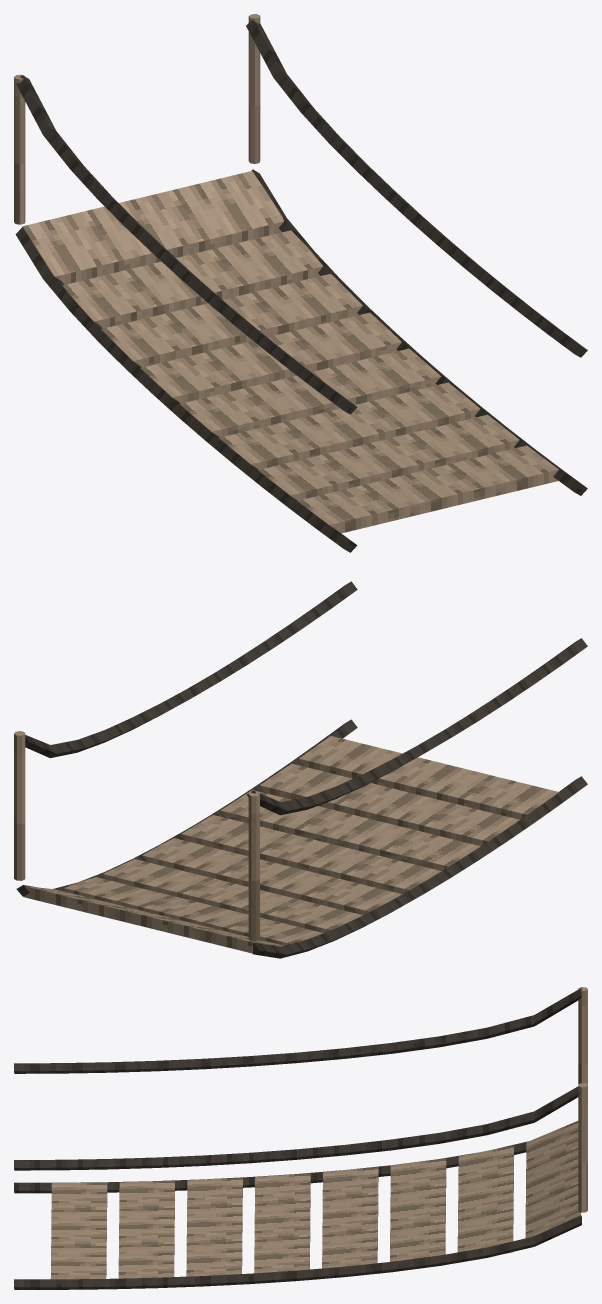
The model's file is BridgeEnd.fbx.
3 views of the same model, one above another, from view 1: azimuth 30°, elevation 25°; view 2: azimuth 150°, elevation 25°; view 3: azimuth 270°, elevation 25° (orthographic). The views are drawn at different scales.
Parts seen in each view (by area): view 1: bridge_end; view 2: bridge_end; view 3: bridge_end.
Boxes of the visible parts, x1,y1,x2,y2 form: bridge_end: (14, 14, 587, 552); bridge_end: (14, 581, 587, 958); bridge_end: (14, 987, 587, 1289).
Bounding box in the file's own units: 0.9538 × 0.8891 × 2.24.
